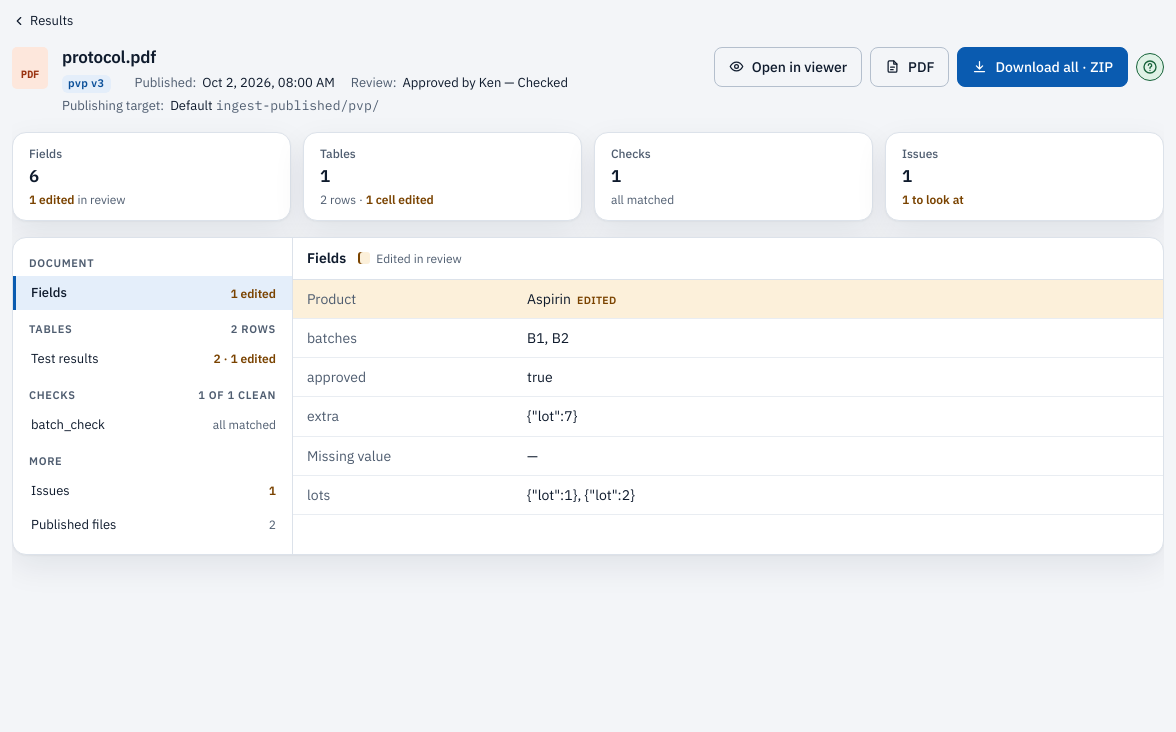
Scenario: ResultDetailView › counts a cell edited twice in review once
The image size is (1176, 732).
Expected: the list item "Tables 1 2 rows · 1 cell edited" is shown, [303,132,582,221]
Click the button "Test results 2 · 1 edited": (65,358) [13,342,292,376]
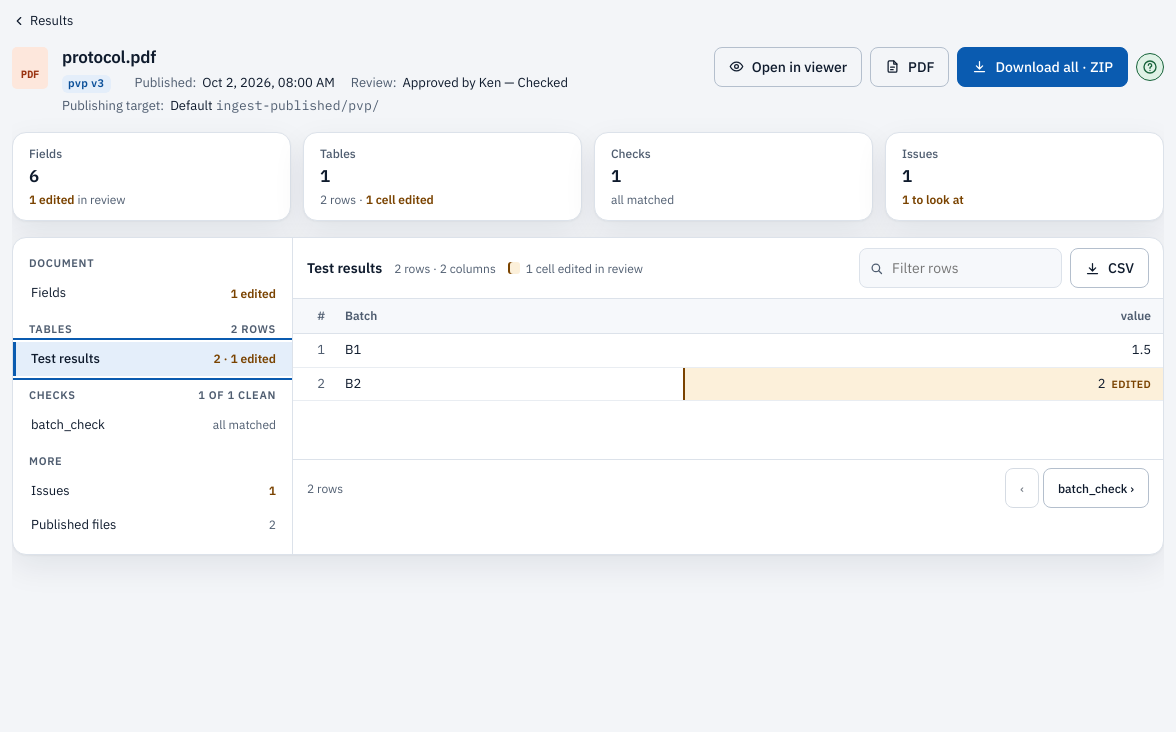
Result: the element "Test results" shows "1 cell edited in review" at [526,261,643,276]
